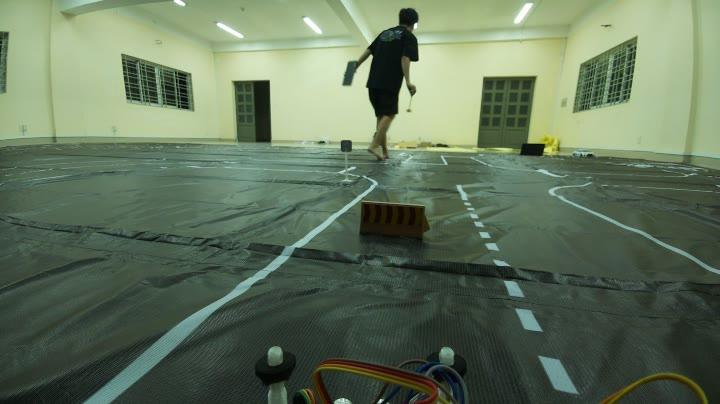roadblock: (355, 194, 443, 254)
